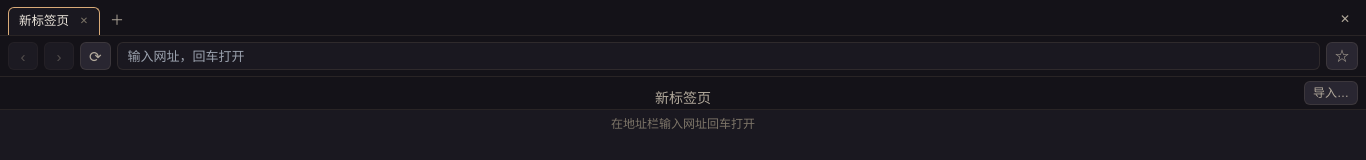
自己 create 的回声 › 自己 create 期间到达的 agent 视图：押后回放，最后照旧长出来
The image size is (1366, 160).
In the field with class "bp-address": (718, 56) [117, 42, 1320, 70], type "https://example.com"
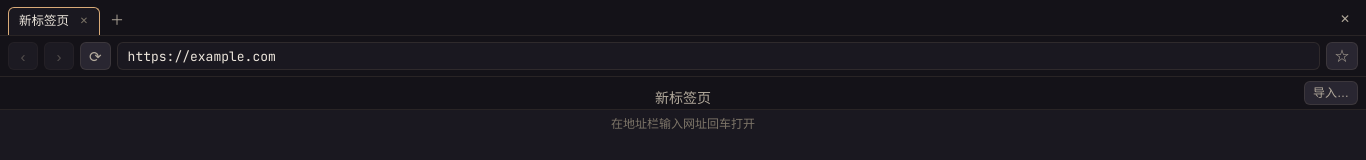
Press Enter in the field with class "bp-address", box [117, 42, 1320, 70]
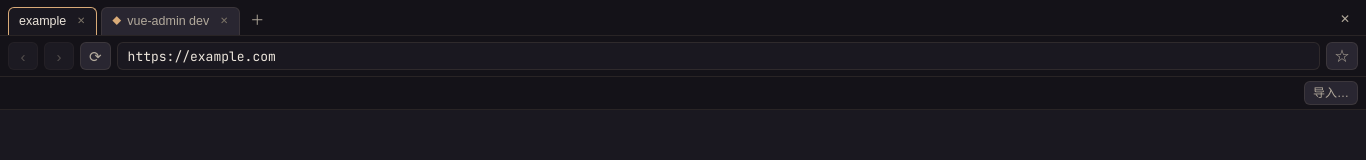
Result: the text with class "bp-tab-label" reads "vue-admin dev" at [127, 14, 209, 28]
Result: the number of elements with class "bp-tab" is 2 at [8, 6, 97, 34]; [101, 6, 240, 34]
